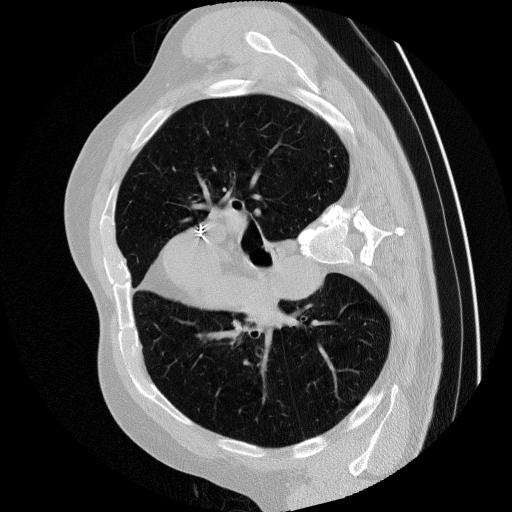nodule: (250, 203, 267, 220)
